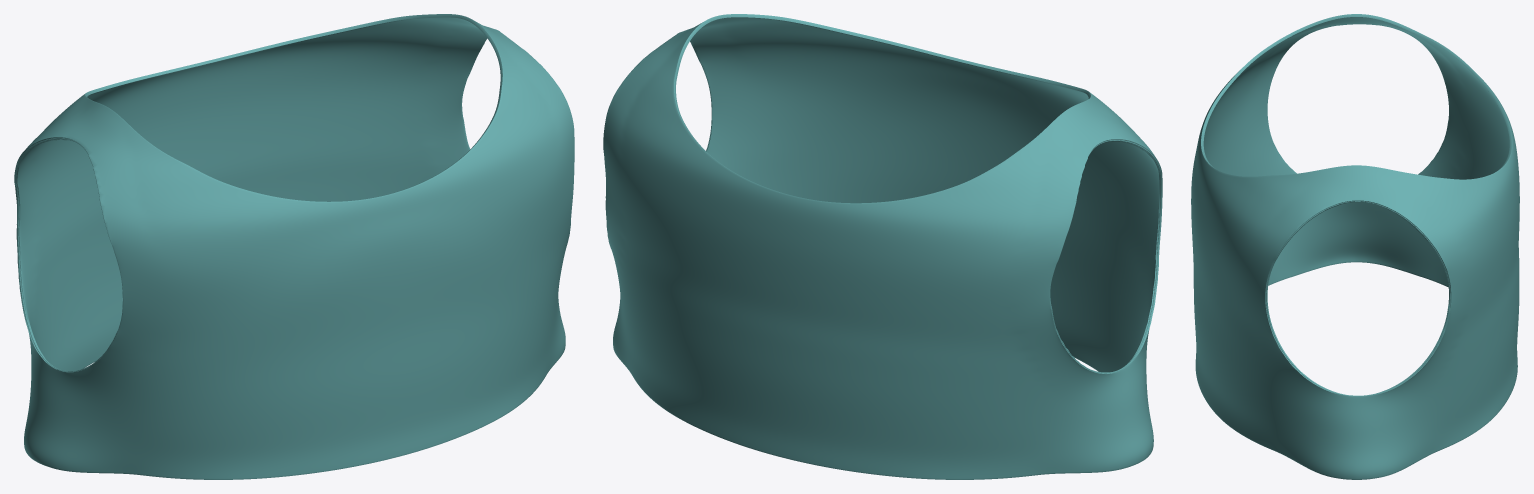
Rendered from Masculine-tank-top.glb.
The picture shows the model from 3 angles, left to right: view 1: azimuth 30°, elevation 25°; view 2: azimuth 150°, elevation 25°; view 3: azimuth 270°, elevation 25°; orthographic projection. The views are drawn at different scales.
Visible parts, largest first — view 1: Clothing / Tank189, Tank / flush armhole seam201 2 export; view 2: Clothing / Tank189, Tank / flush armhole seam201 2 export; view 3: Clothing / Tank189, Tank / flush armhole seam201 1 export.
Boxes of the visible parts, x1,y1,x2,y2 form: Clothing / Tank189: (14,14,574,479); Tank / flush armhole seam201 2 export: (15,138,123,371); Clothing / Tank189: (603,14,1162,479); Tank / flush armhole seam201 2 export: (1050,140,1161,373); Clothing / Tank189: (1191,14,1519,479); Tank / flush armhole seam201 1 export: (1266,201,1450,396).
Size of the model in its own units: 0.6885 by 0.4121 by 0.4369.
